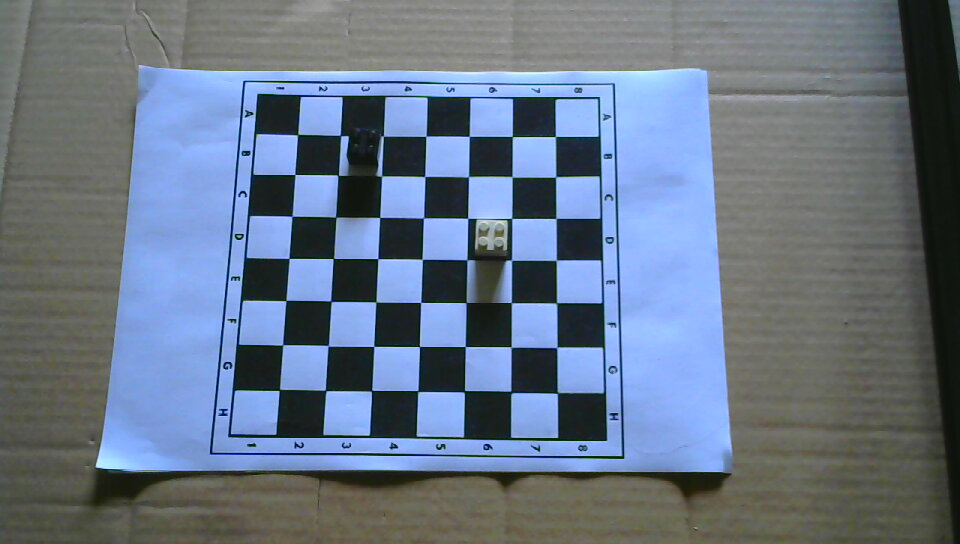bp: (346, 127, 381, 167)
wp: (473, 218, 509, 257)
